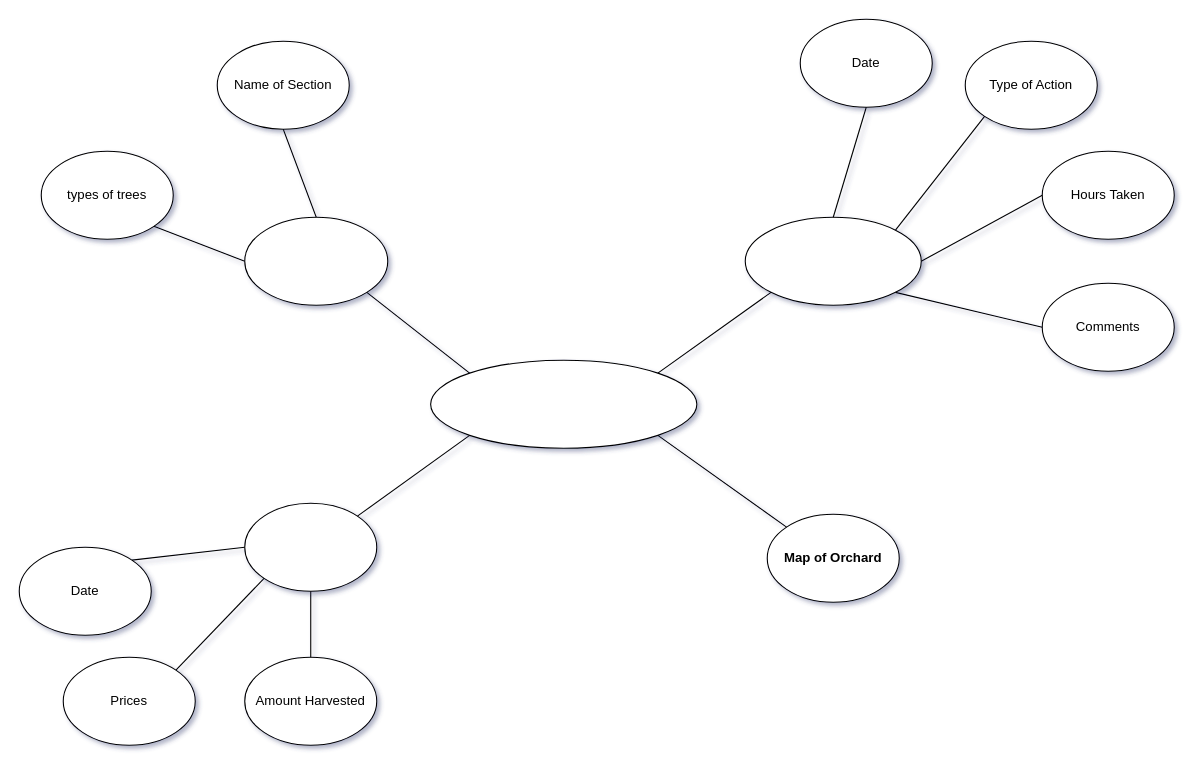
This 1200x771 diagram has some shape labels left out. Here are the shapes that lost their labels. From the top down, the centre of each, then its label:
At [316,260]: "Record Orchard Sections".
At [832,260]: "Record Actions".
At [563,403]: "Orchard Management App".
At [310,546]: "Record Harvests".
